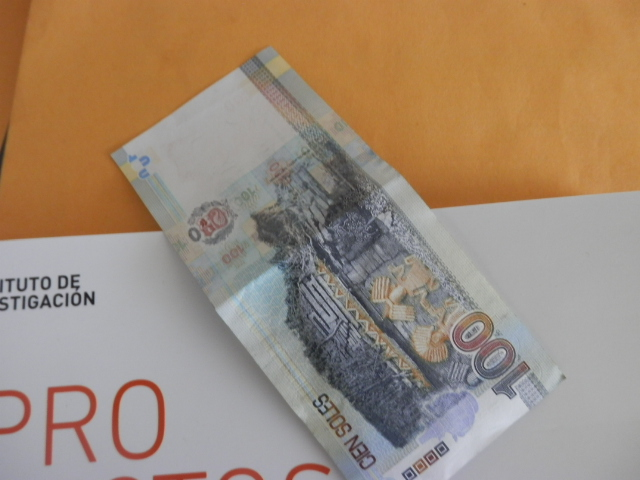B100: (106, 66, 583, 471)
